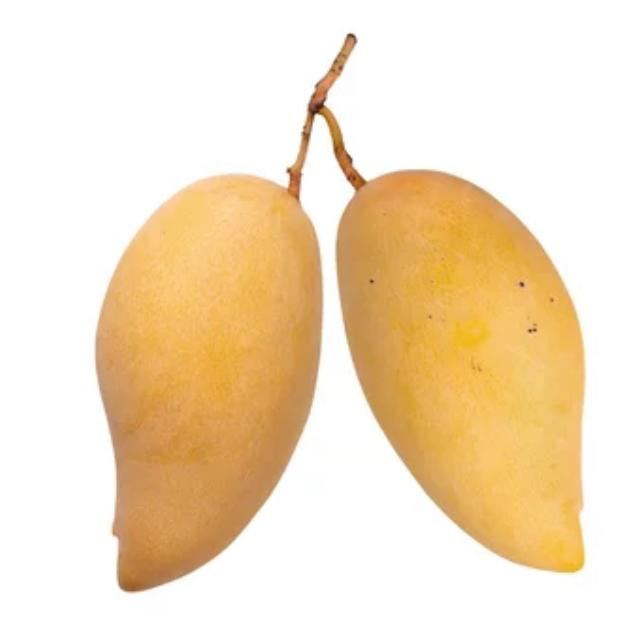mango: (335, 163, 589, 578), (93, 169, 323, 589)
